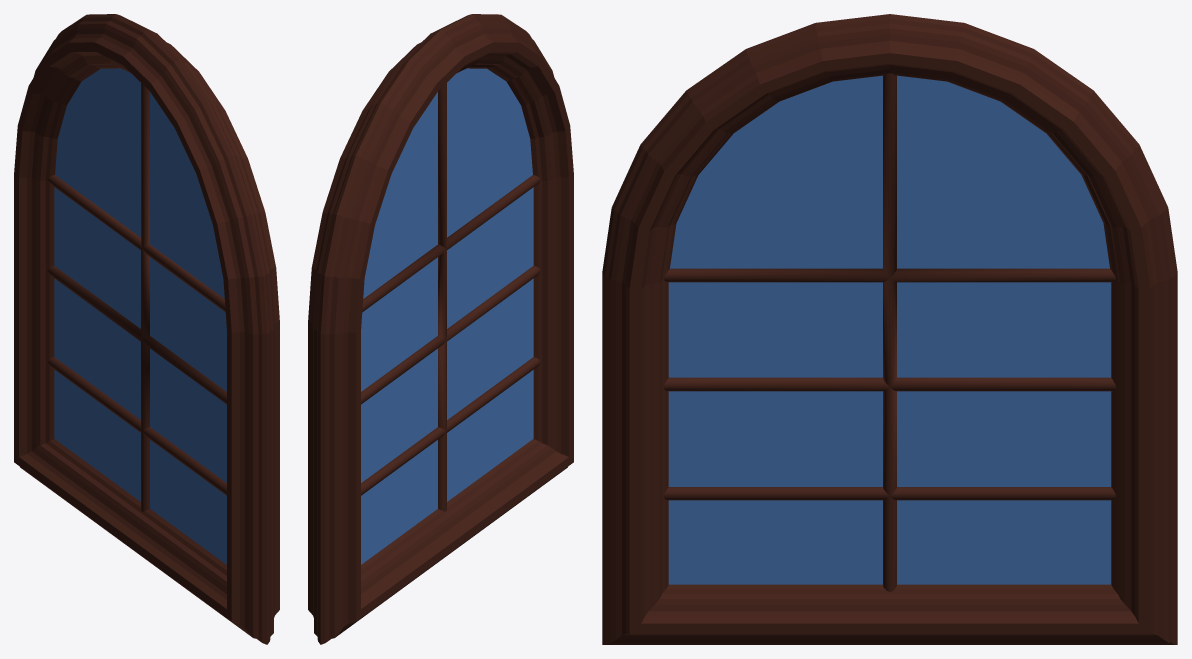
Rendered from Arch_Window1_Basic.fbx.
3 renders of one model, left to right at view 1: azimuth 30°, elevation 25°; view 2: azimuth 150°, elevation 25°; view 3: azimuth 270°, elevation 25°, orthographic. The views are drawn at different scales.
Visible parts, largest first — view 1: Frame .001, Glass.001, Inner Rim.003; view 2: Frame .001, Glass.001, Inner Rim.003; view 3: Glass.001, Frame .001, Inner Rim.003.
Part boxes in pixels (x1=…): Frame .001: x1=14, y1=14, x2=279, y2=644; Glass.001: x1=54, y1=68, x2=226, y2=564; Inner Rim.003: x1=47, y1=83, x2=226, y2=511; Frame .001: x1=308, y1=14, x2=573, y2=644; Glass.001: x1=361, y1=68, x2=533, y2=564; Inner Rim.003: x1=361, y1=83, x2=540, y2=511; Glass.001: x1=668, y1=75, x2=1111, y2=584; Frame .001: x1=602, y1=14, x2=1177, y2=644; Inner Rim.003: x1=663, y1=73, x2=1116, y2=591.
Size of the model in its own units: 17.08 by 179 by 148.
